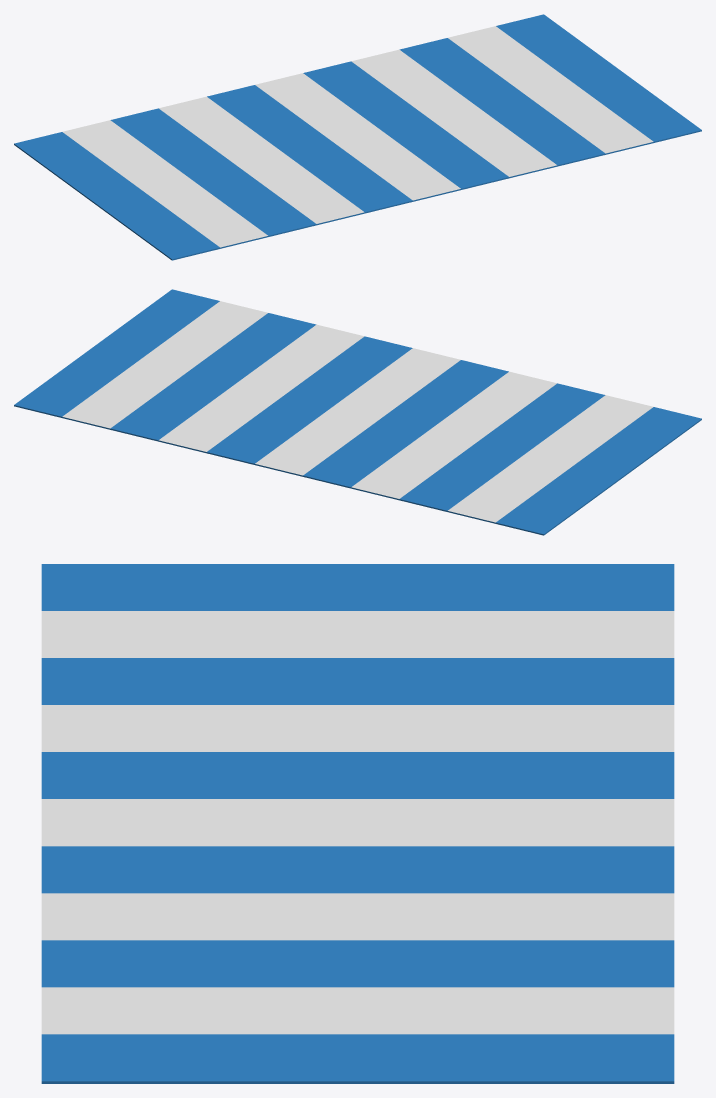
File: Towel3.fbx
The picture shows the model from 3 angles, top to bottom: view 1: azimuth 30°, elevation 25°; view 2: azimuth 150°, elevation 25°; view 3: azimuth 270°, elevation 25°; orthographic projection. The views are drawn at different scales.
Parts seen in each view (by area): view 1: Cube; view 2: Cube; view 3: Cube.
Boxes of the visible parts, left/top/right/bottom form: Cube: left=14, top=14, right=701, bottom=260; Cube: left=14, top=289, right=701, bottom=535; Cube: left=41, top=564, right=674, bottom=1083.
Bounding box in the file's own units: 159 × 0.3818 × 82.14.
